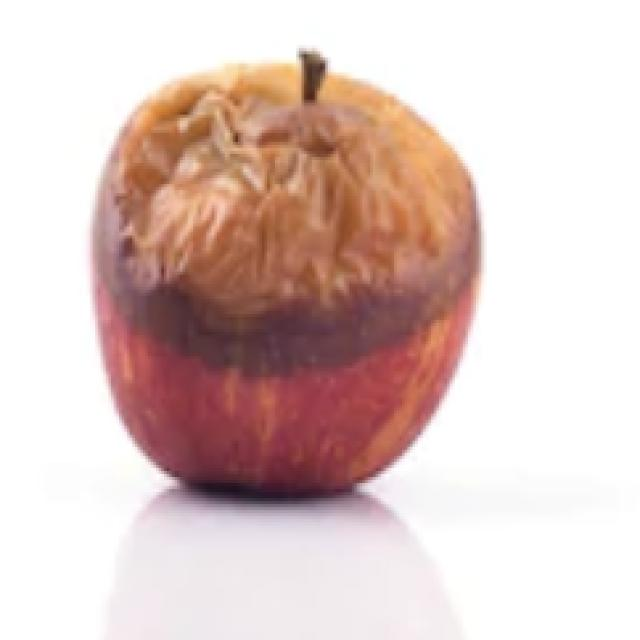Rotten: (90, 57, 489, 501)
